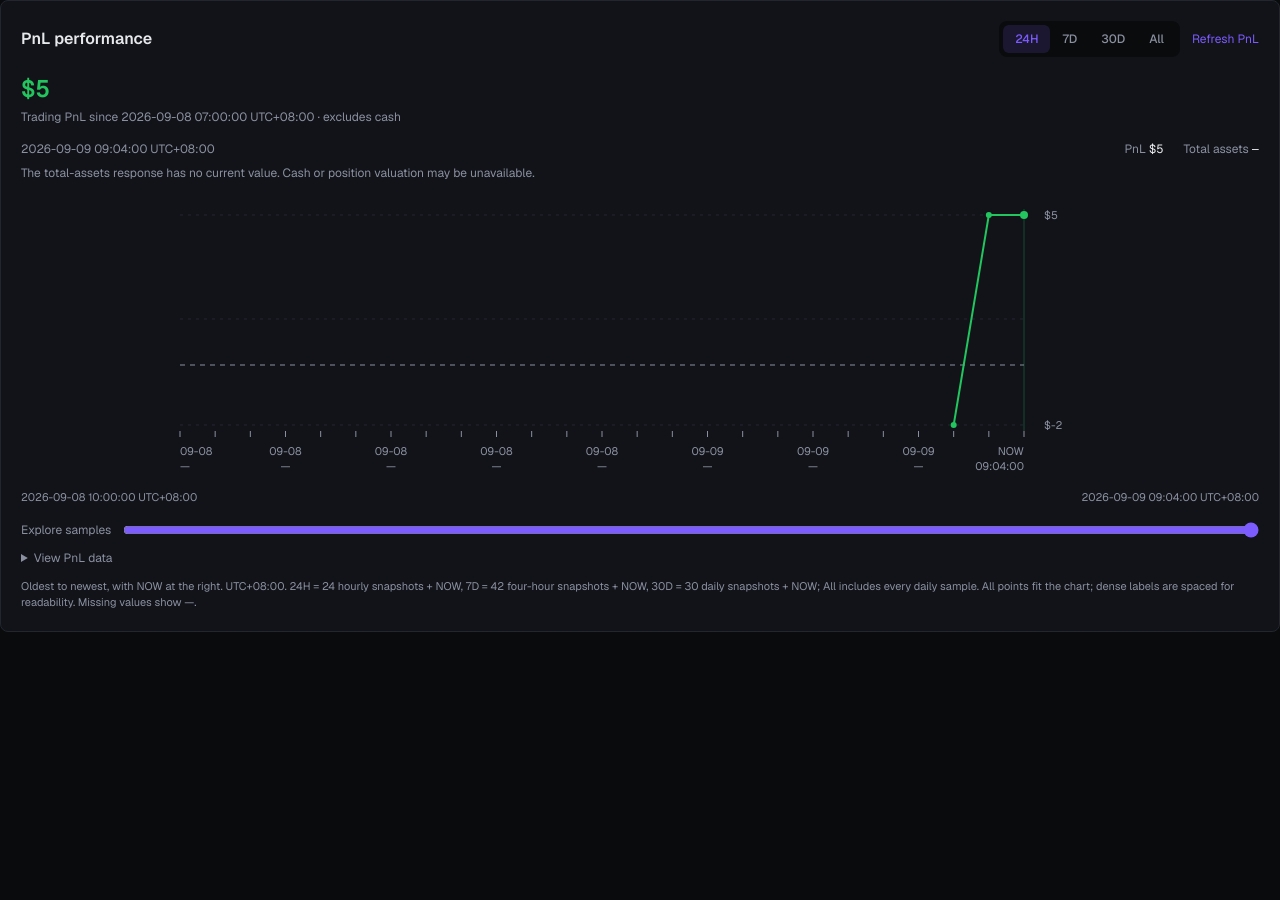
Test: Portfolio PnL chart › switches windows and shows the true baseline, negative returns, simulation and unavailable history
Expected: the text with test id "pnl-total" reads "$5", [21,73,50,104]
Expected: the text "since 2026-09-08 07:00:00 UTC" is shown, [21,109,401,125]
Click the button "7D" at (1070, 39), box [1050,25,1089,53]
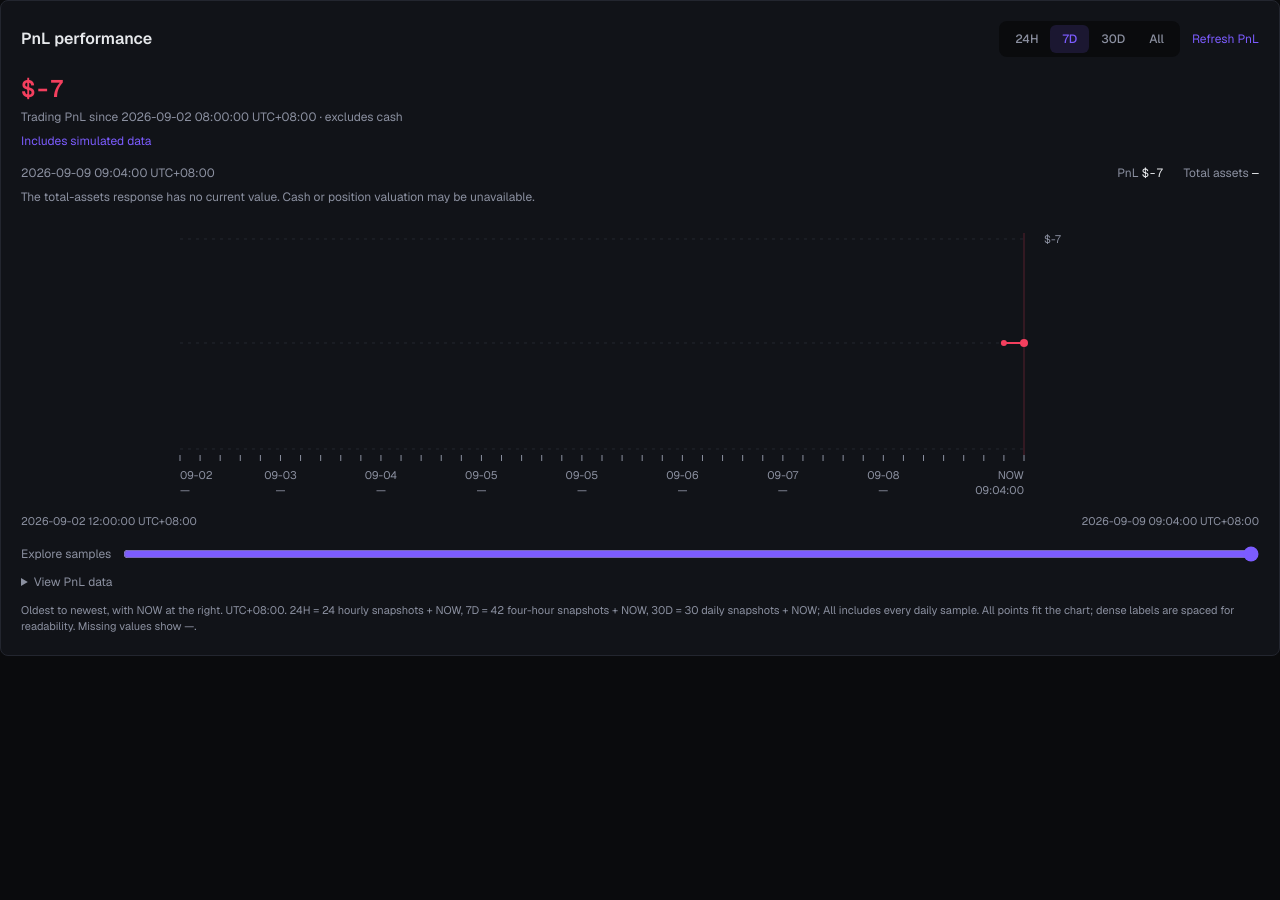
Expected: the text with test id "pnl-total" reads "$-7", [21,73,64,104]
Expected: the text "Includes simulated data" is shown, [21,133,152,149]
Click the button "30D" at (1113, 39), box [1089,25,1137,53]
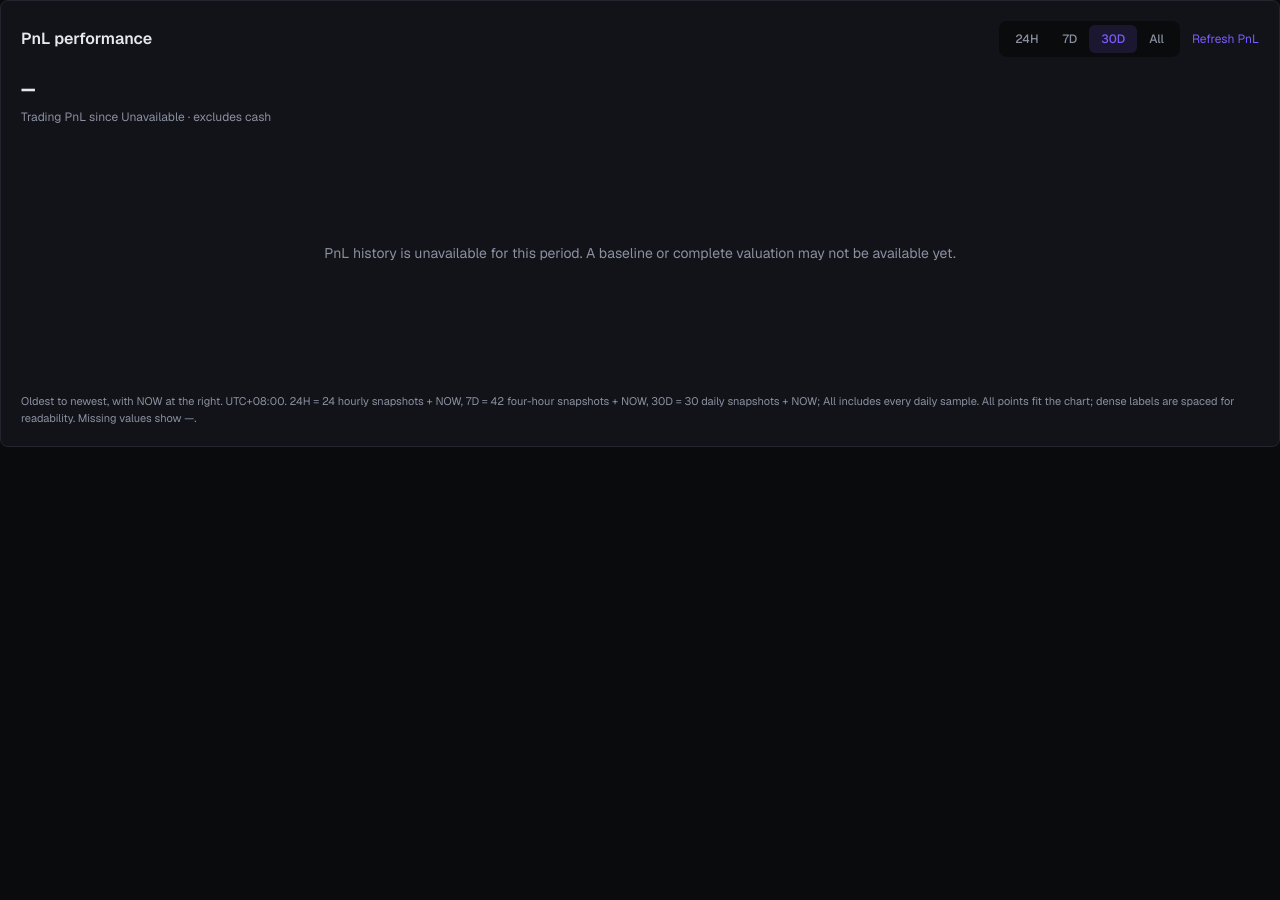
Expected: the text with test id "pnl-total" reads "—", [21,73,35,104]
Expected: the picture is gone
Click the button "All" at (1157, 39), box [1137,25,1176,53]
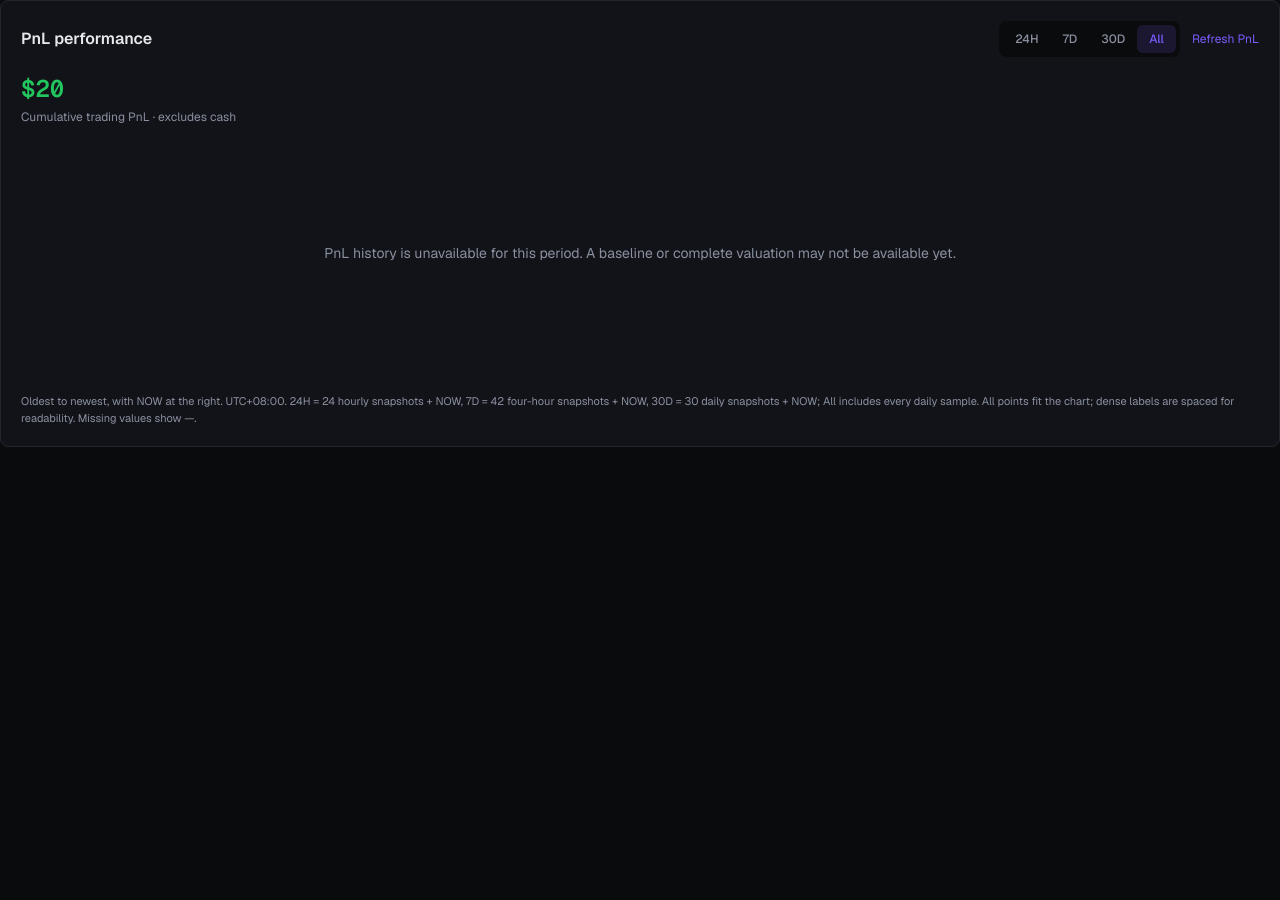
Expected: the text with test id "pnl-total" reads "$20", [21,73,64,104]
